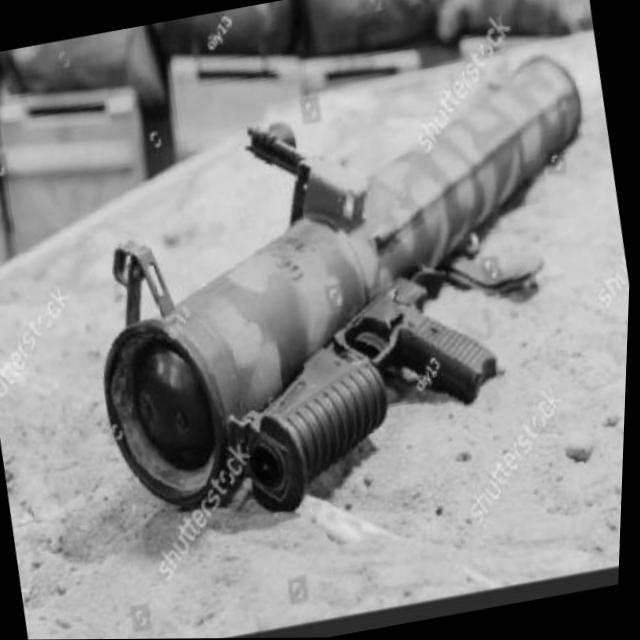weapon: (54, 44, 638, 542)
